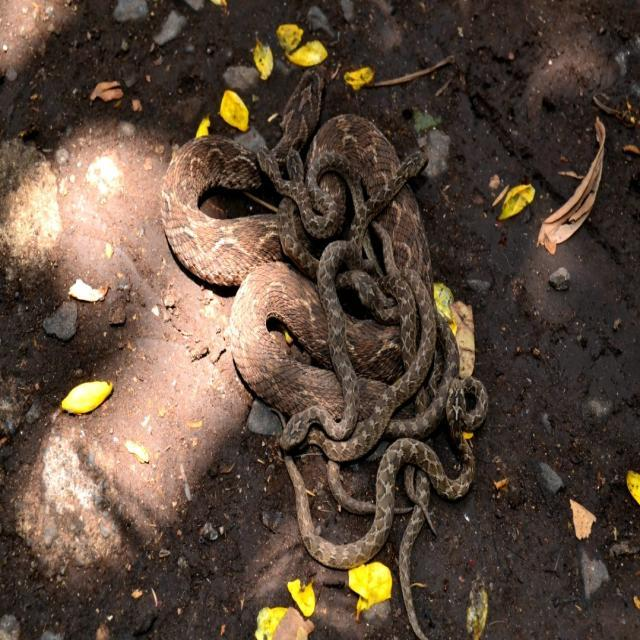Snake: (160, 65, 489, 638)
